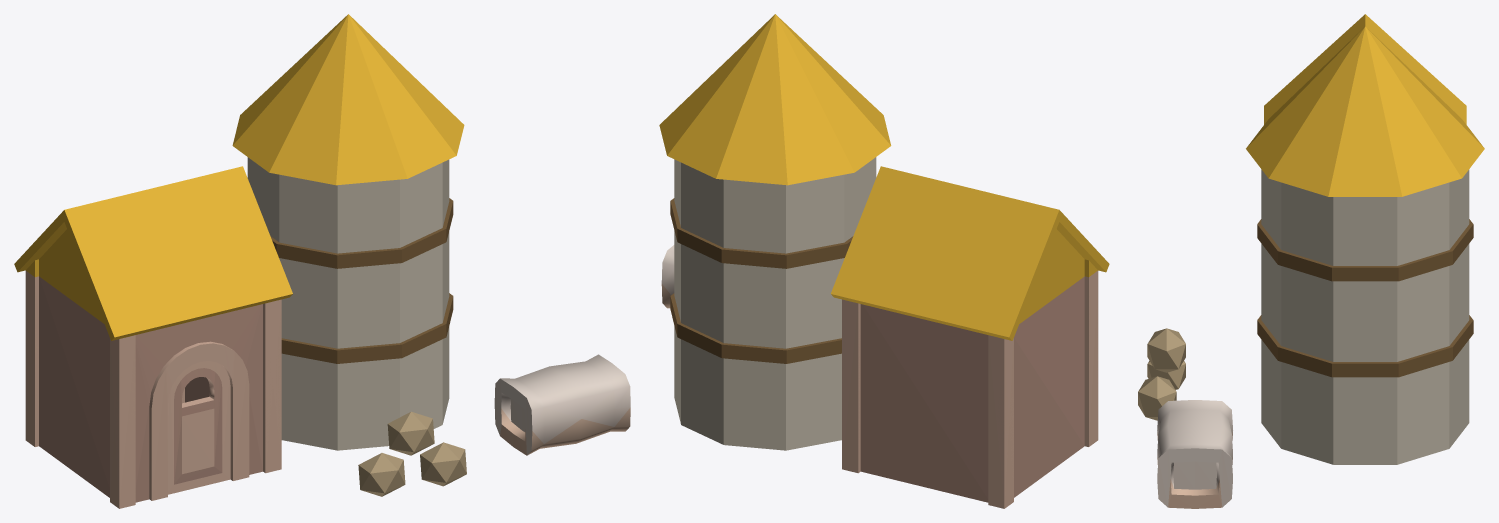
The model's file is granary_l1.glb.
3 renders of one model, left to right at view 1: azimuth 30°, elevation 25°; view 2: azimuth 150°, elevation 25°; view 3: azimuth 270°, elevation 25°, orthographic.
Visible parts, largest first — view 1: granary_l1; view 2: granary_l1; view 3: granary_l1.
Part boxes in pixels (bbox=[...]): granary_l1: bbox=[14, 14, 630, 508]; granary_l1: bbox=[659, 14, 1109, 508]; granary_l1: bbox=[1138, 14, 1484, 508].
Bounding box in the file's own units: 5.42 × 4.42 × 3.49.
